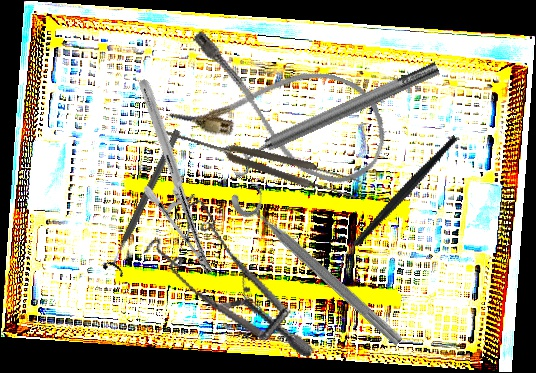Cannula: (163, 23, 402, 196)
Chopper: (309, 135, 487, 273)
Fixation Ring: (226, 176, 416, 351), (222, 52, 446, 180), (99, 125, 190, 278)
Needle Holder: (73, 77, 279, 277)
Speculum: (126, 184, 347, 359)
Tissue Forceps: (160, 118, 363, 203)
